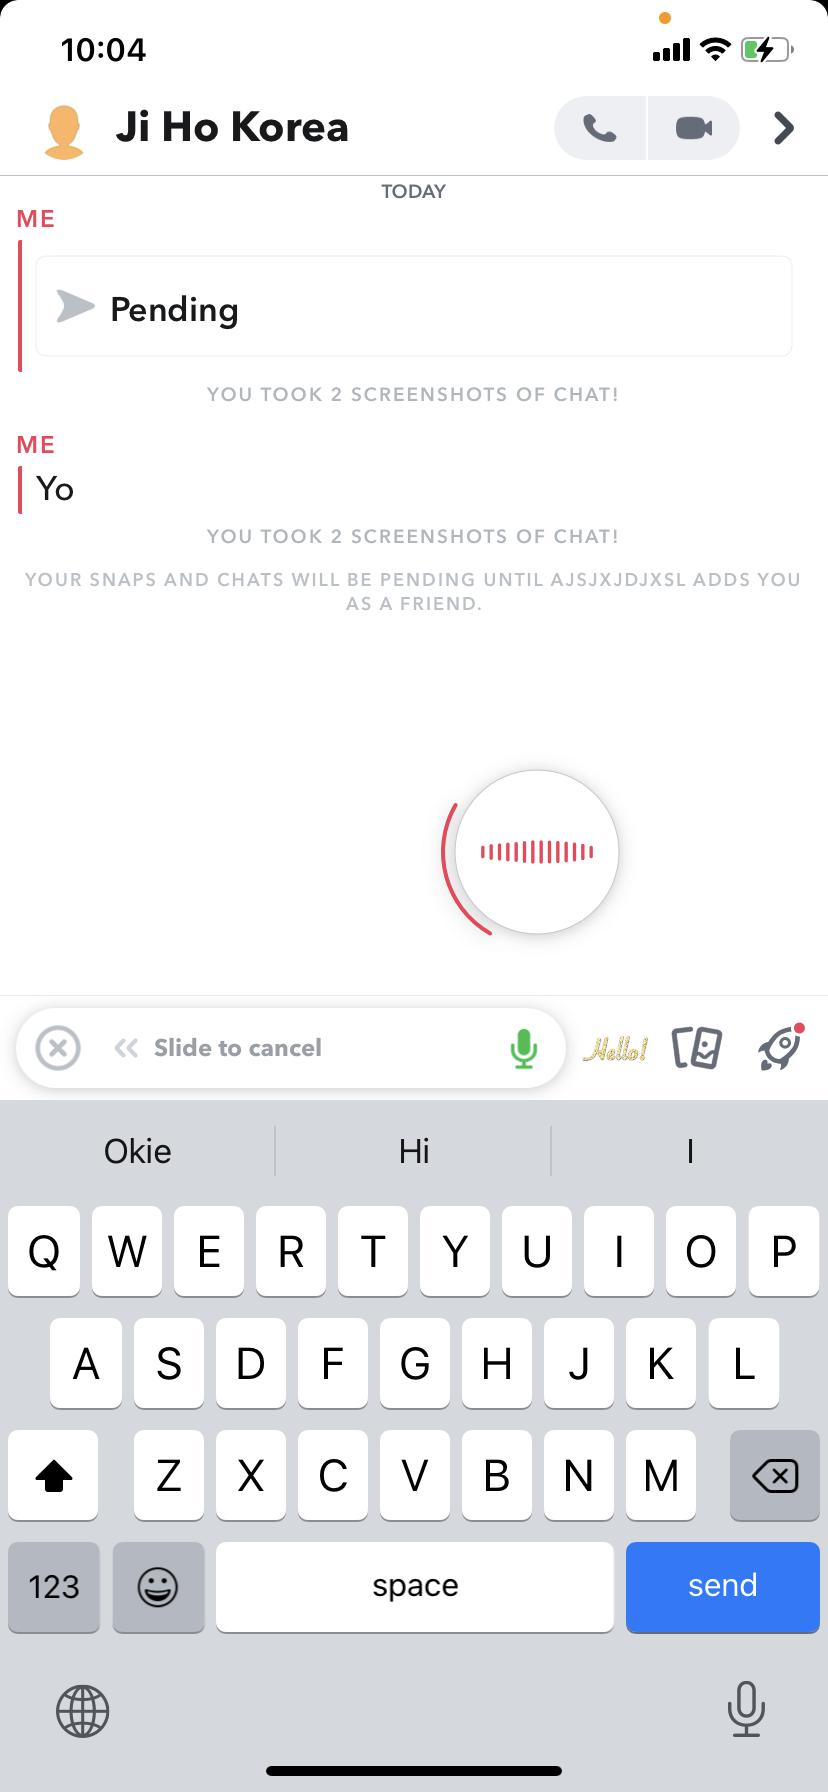Buttons: (550, 85, 747, 167)
FAB -Floating Action Button-: (428, 753, 628, 961)
